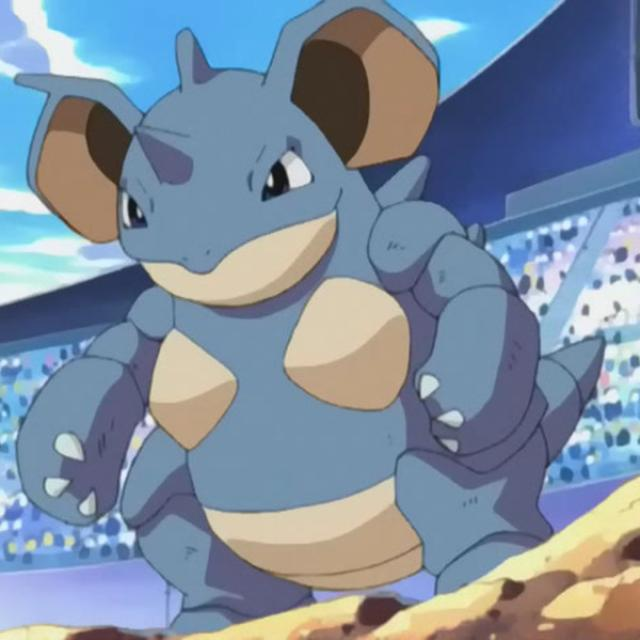Nidoqueen: (19, 0, 603, 616)
